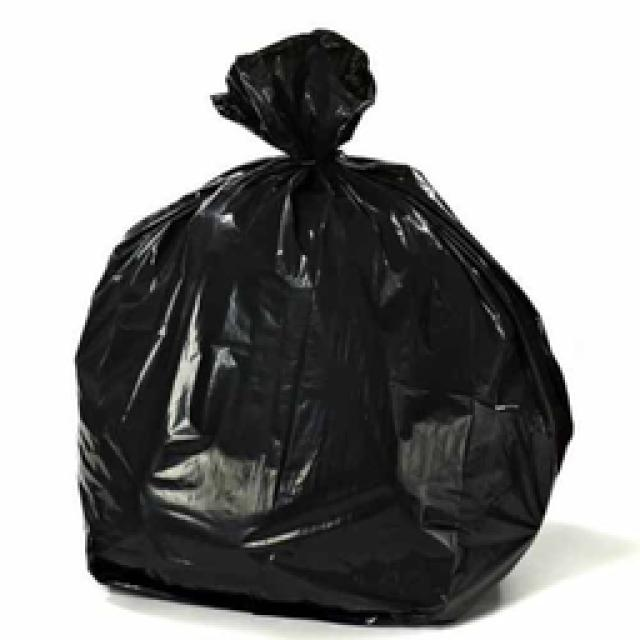plastic: (75, 30, 570, 622)
